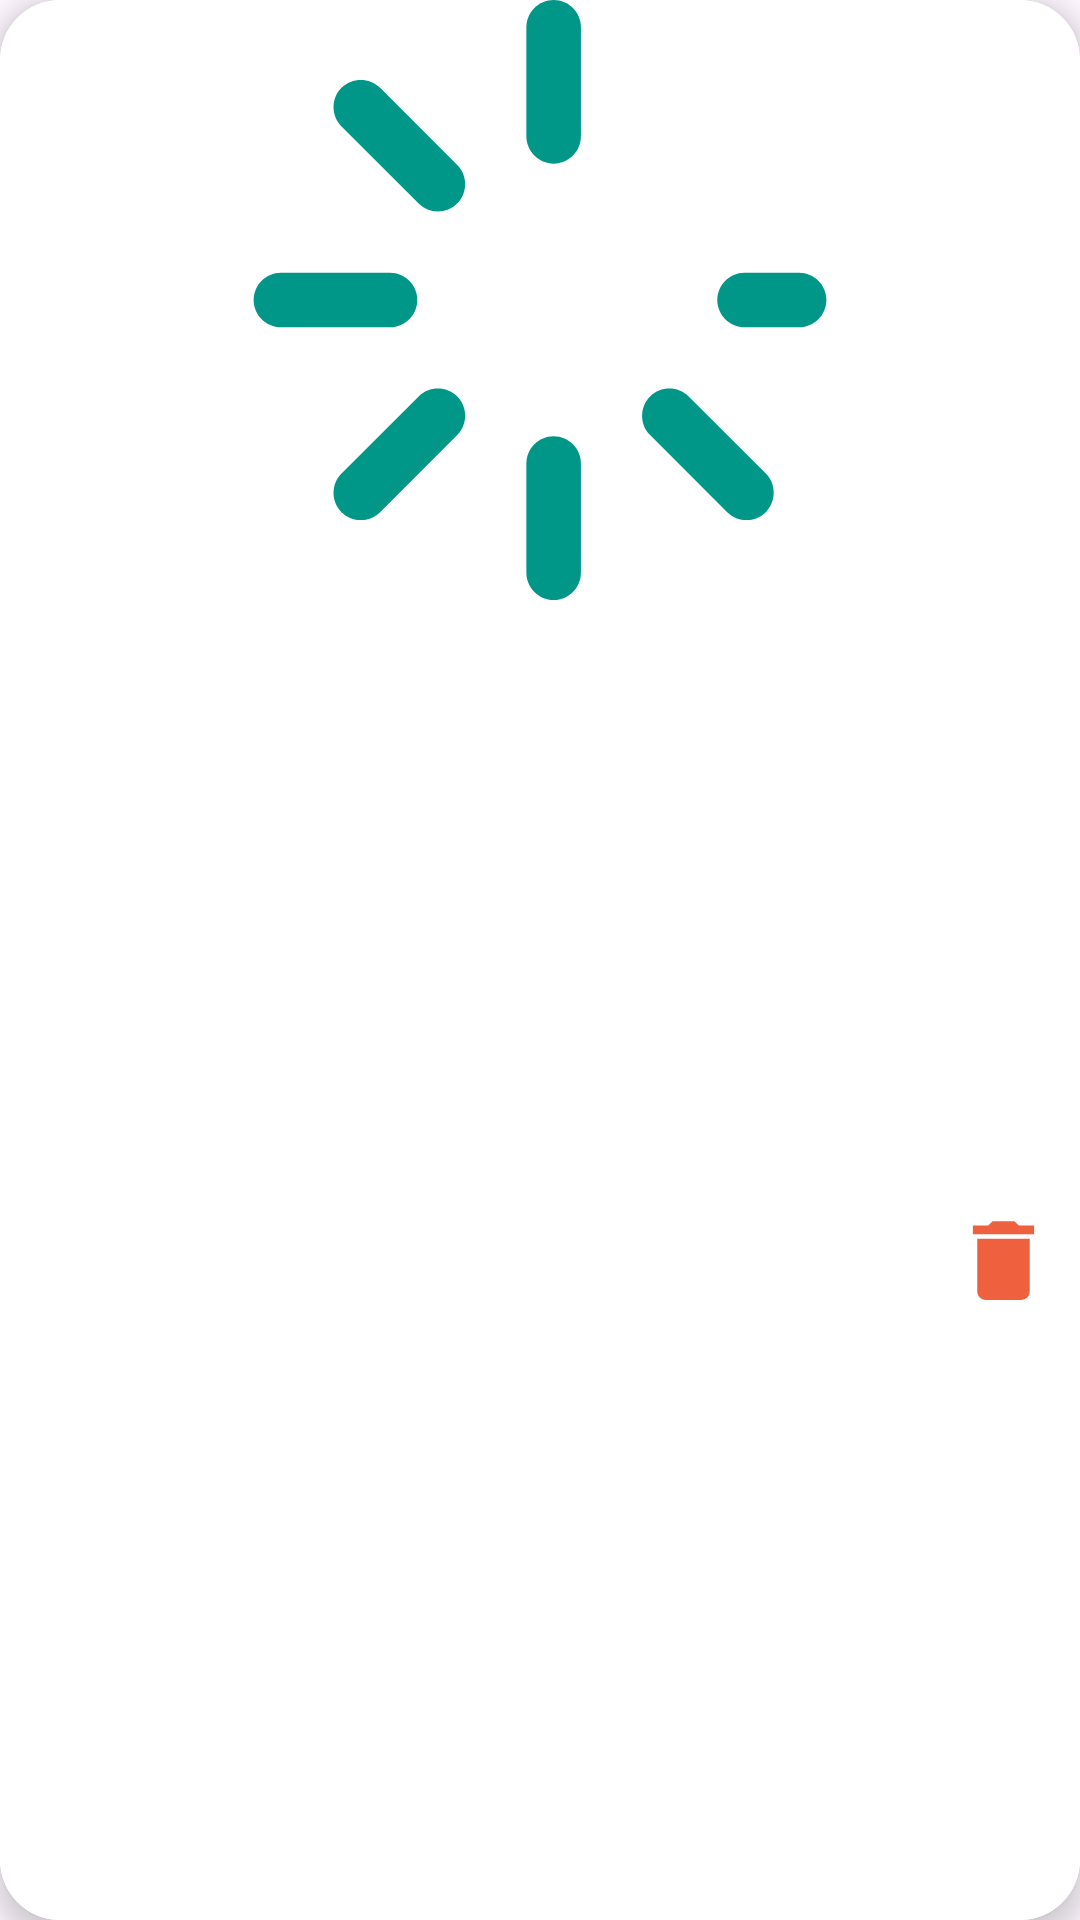

Where icons sit on this 1080*1920 app screen, as (x1, y1, x2, y2):
delete: (973, 1221, 1034, 1300)
